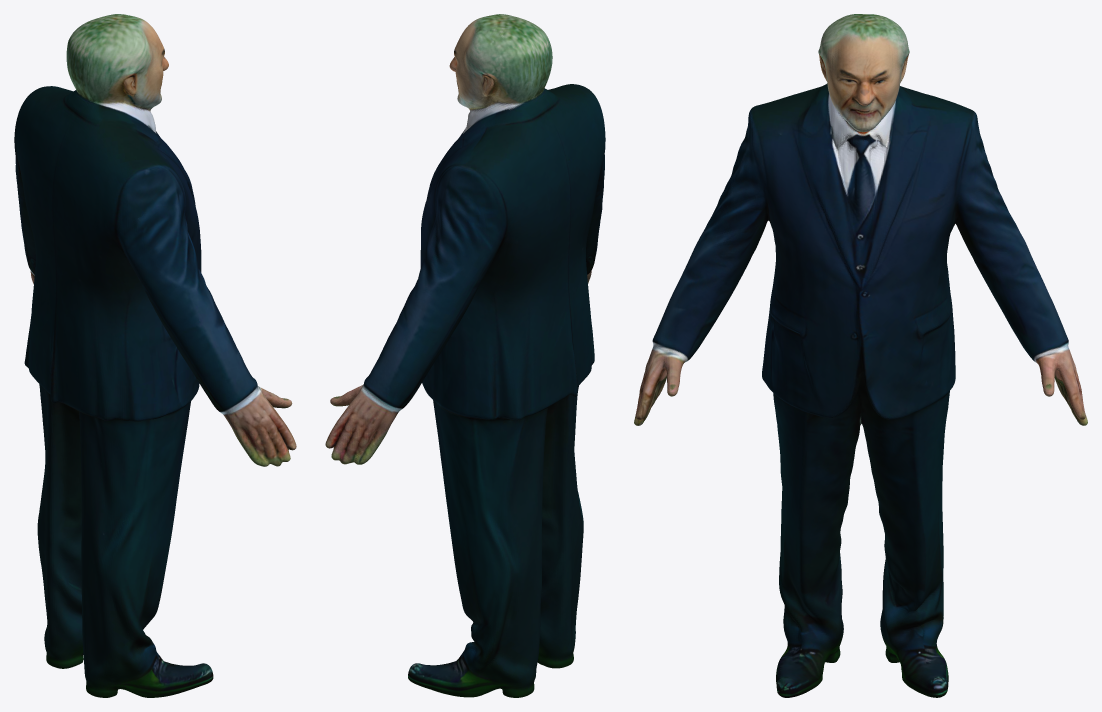
Rendered from Яблокин.glb.
The picture shows the model from 3 angles, left to right: view 1: azimuth 30°, elevation 25°; view 2: azimuth 150°, elevation 25°; view 3: azimuth 270°, elevation 25°; orthographic projection.
Parts seen in each view (by area): view 1: tripo_node_87e001ce-4194-4f55-ae2e-ed6f652d2ee0; view 2: tripo_node_87e001ce-4194-4f55-ae2e-ed6f652d2ee0; view 3: tripo_node_87e001ce-4194-4f55-ae2e-ed6f652d2ee0.
Part boxes in pixels (x1=…): tripo_node_87e001ce-4194-4f55-ae2e-ed6f652d2ee0: x1=14, y1=14, x2=296, y2=697; tripo_node_87e001ce-4194-4f55-ae2e-ed6f652d2ee0: x1=325, y1=14, x2=605, y2=697; tripo_node_87e001ce-4194-4f55-ae2e-ed6f652d2ee0: x1=634, y1=14, x2=1087, y2=697.
Bounding box in the file's own units: 0.2455 × 1 × 0.629.
1 material, 1 textured.
